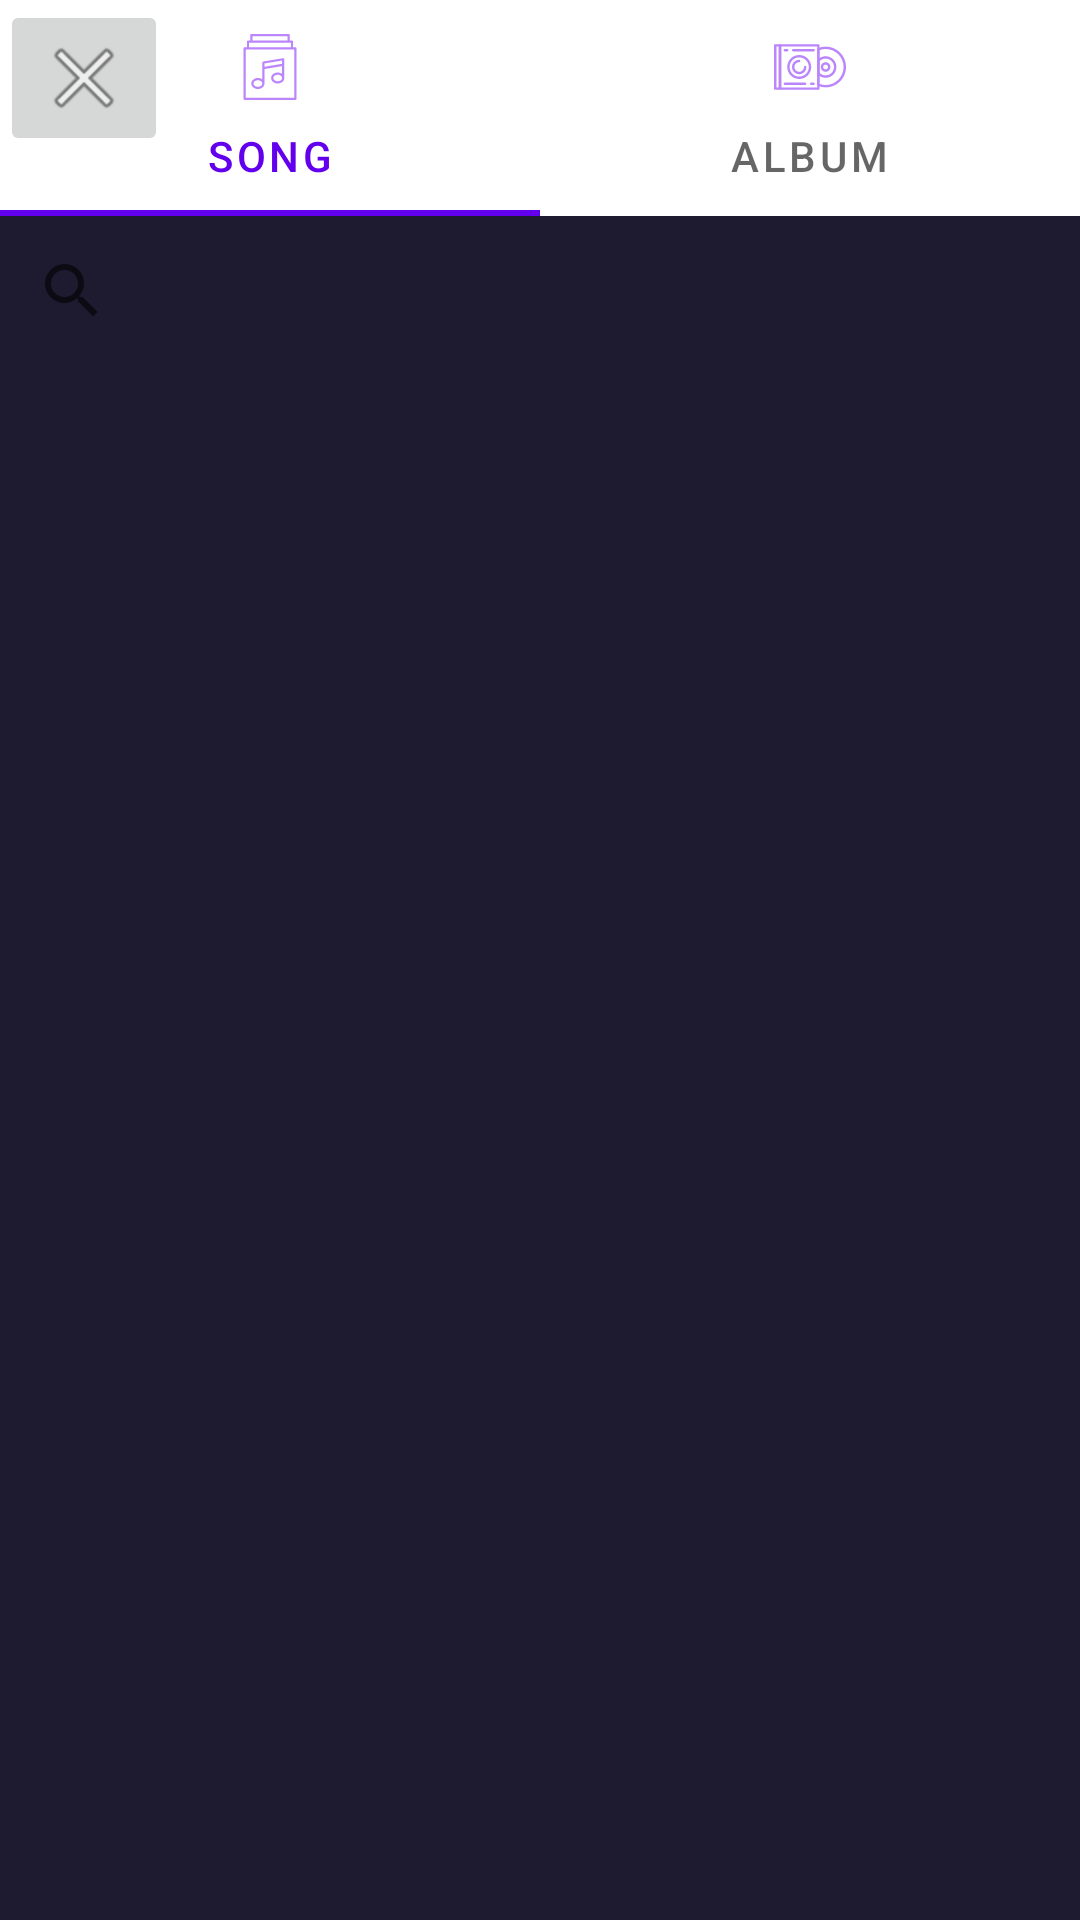

Point at icon controls on the screen. Image size 1080w x 1920h, points as point (x, y).
close clear cancel: point (84, 78)
